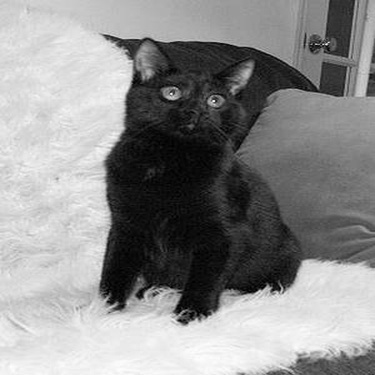cat: (97, 38, 303, 325)
